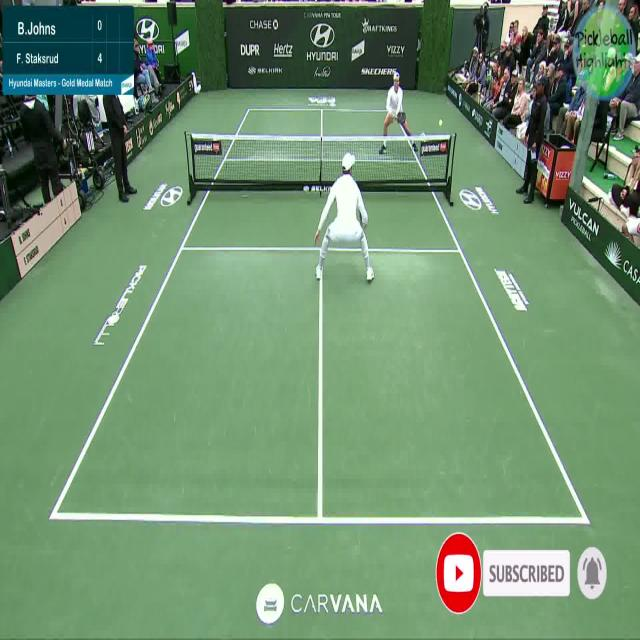ball: (438, 118, 443, 126)
